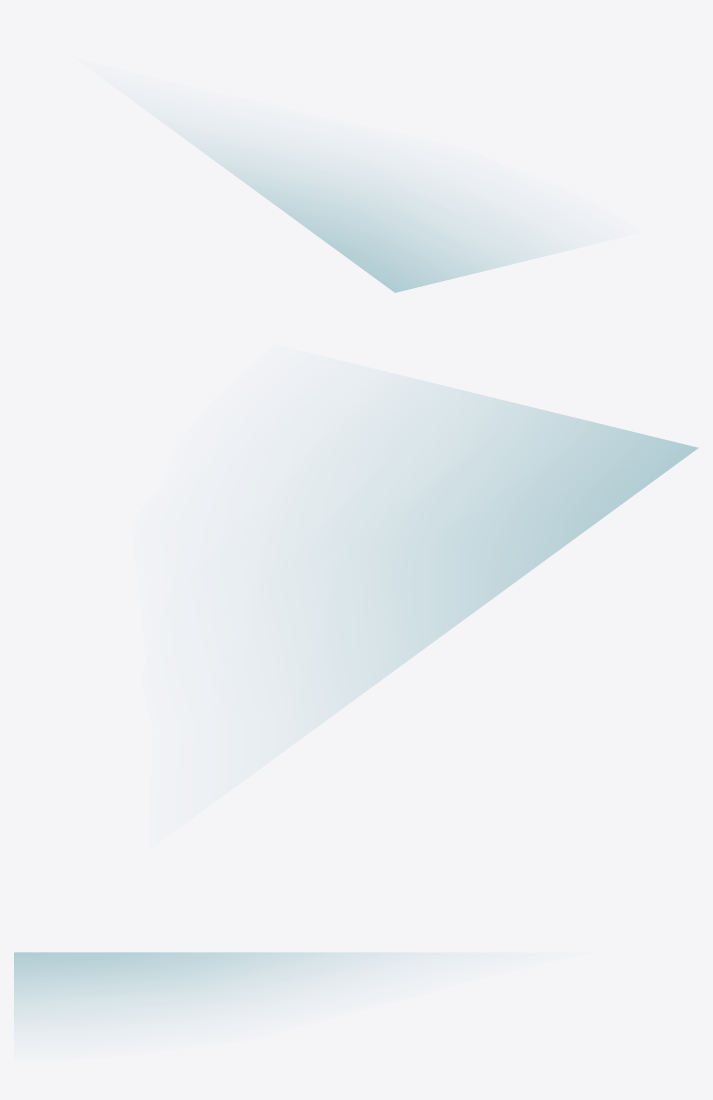
3 views of the same model, one above another, from view 1: azimuth 30°, elevation 25°; view 2: azimuth 150°, elevation 25°; view 3: azimuth 270°, elevation 25° (orthographic). The views are drawn at different scales.
Parts seen in each view (by area): view 1: city; view 2: city; view 3: city.
Boxes of the visible parts, x1,y1,x2,y2 form: city: (168,126,561,292); city: (285,378,698,732); city: (14,952,420,1025).
Size of the model in its own units: 222 by 0 by 483.
